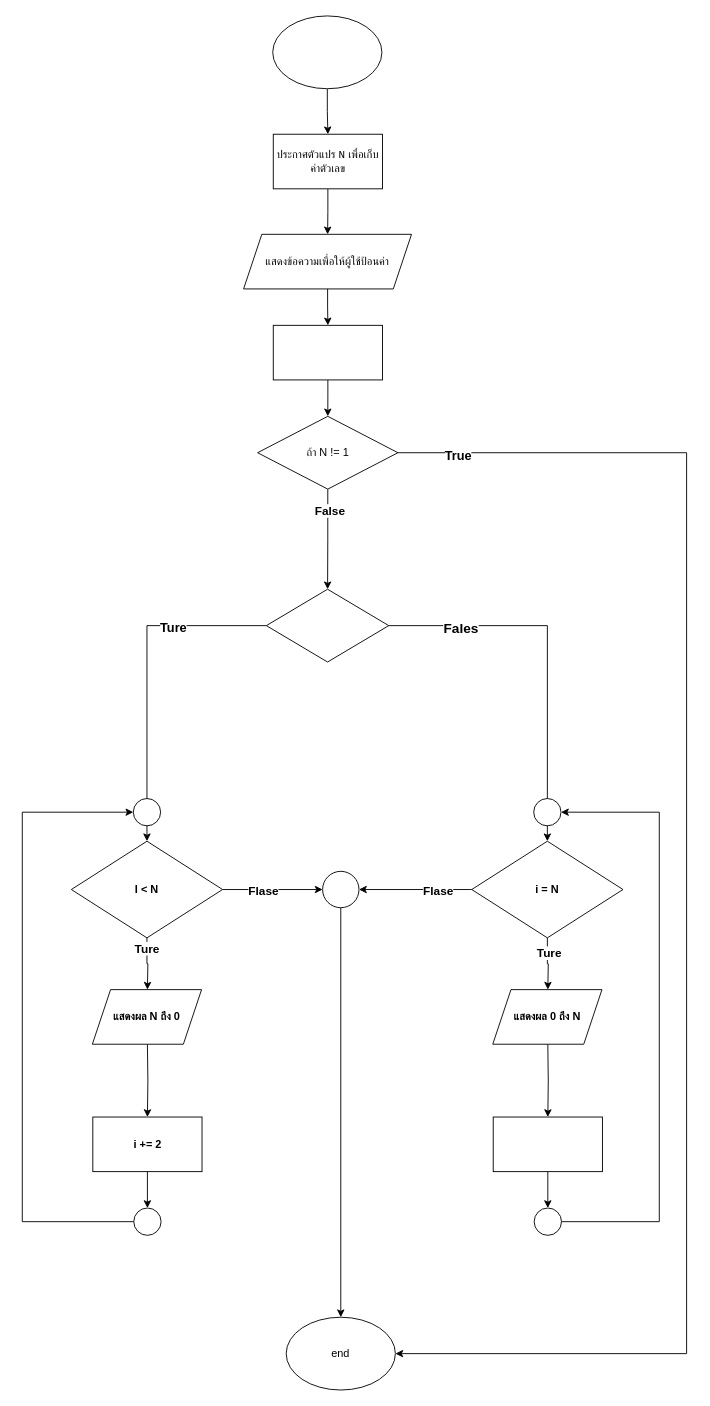
This 710x1406 diagram has some shape labels left out. Each missing label, with the centre of its shape:
i -= 2: the point at 547,1144
N % 2 != 0: the point at 327,625
start: the point at 327,52
รับค่าตัวเลขจากผู้ใช้และเก็บไว้ในตัวแปร N: the point at 327,352
